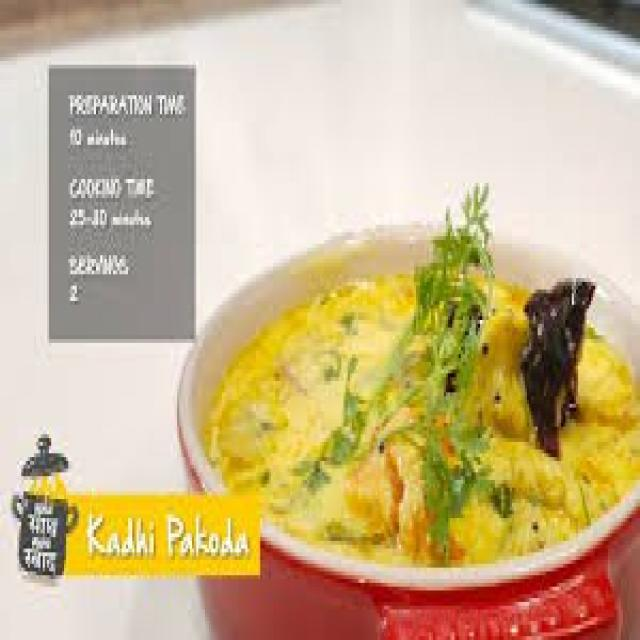Kadhi Pakora: (205, 263, 640, 562)
